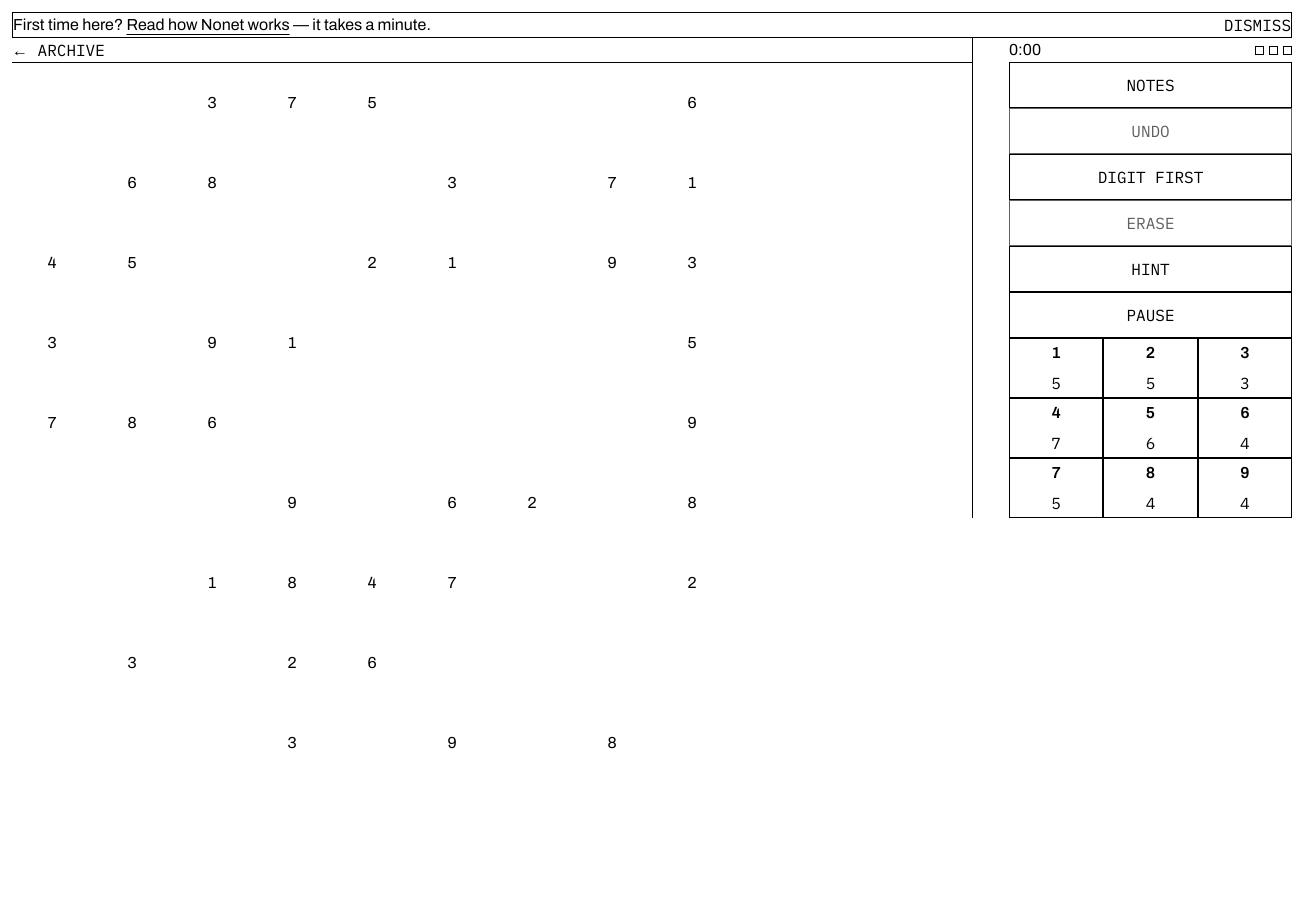
BoardScreen, the inline notices › remembers the offer being dismissed
Step 1. Click the button "Dismiss" → [1257, 25], box [1224,13,1291,37]
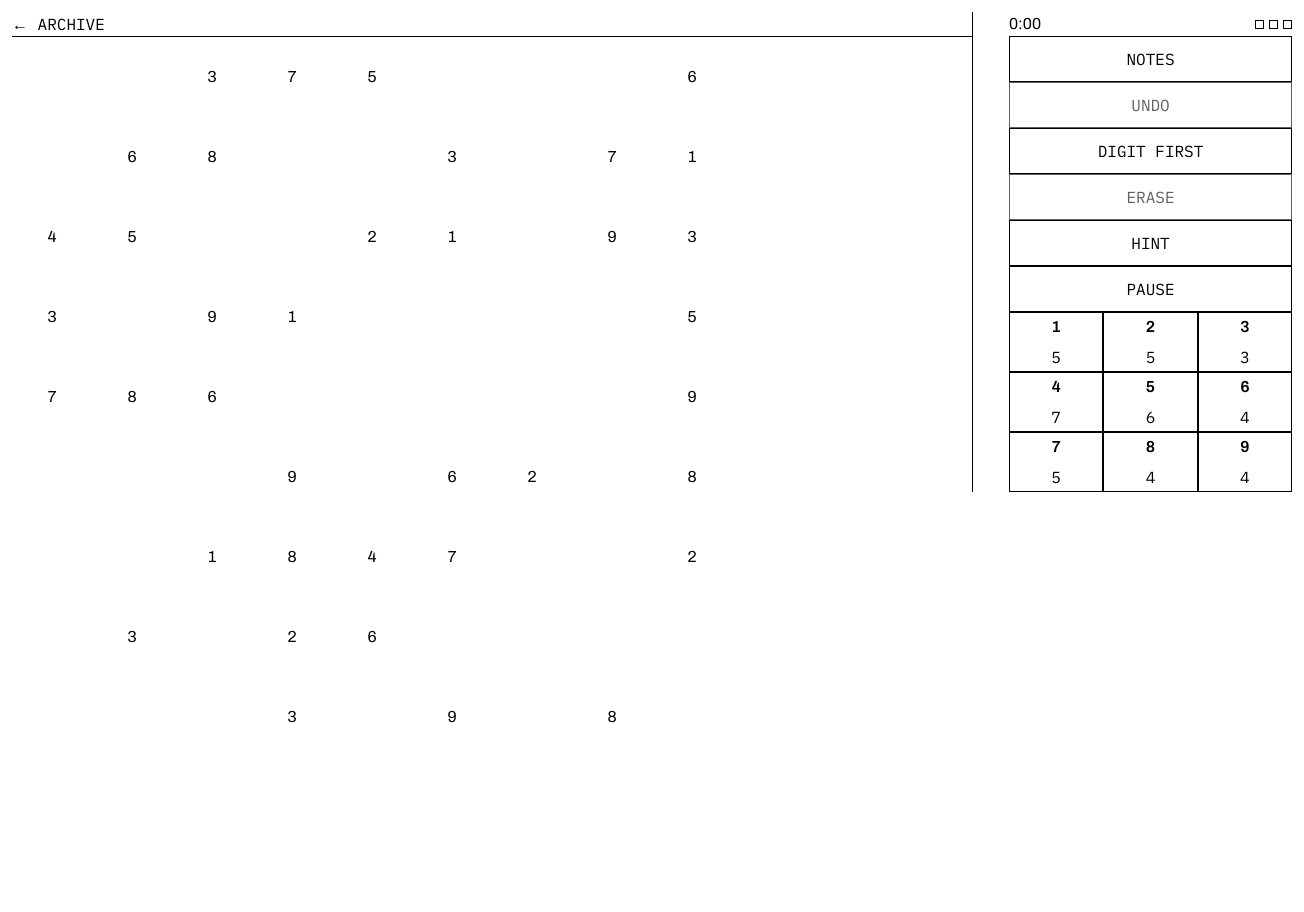
Expected: the text "First time here" is gone
